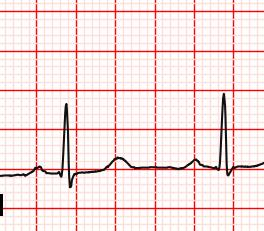LVH: (103, 153, 135, 172)
ST Depression: (58, 169, 80, 192)
